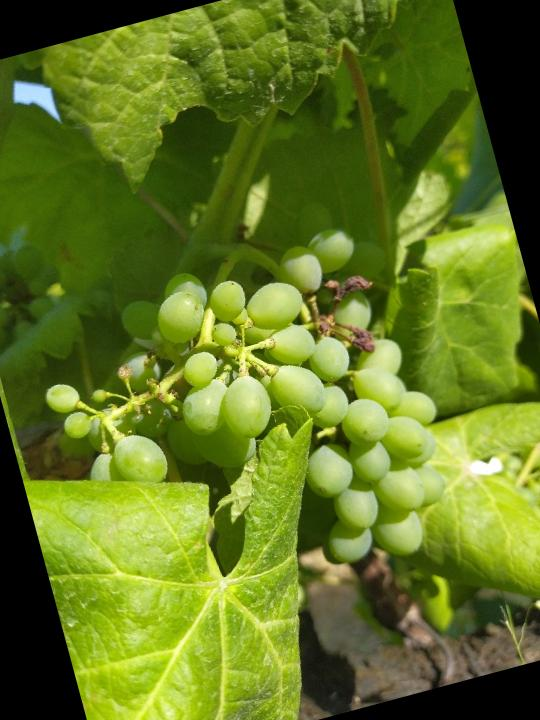grape: (12, 182, 479, 641)
